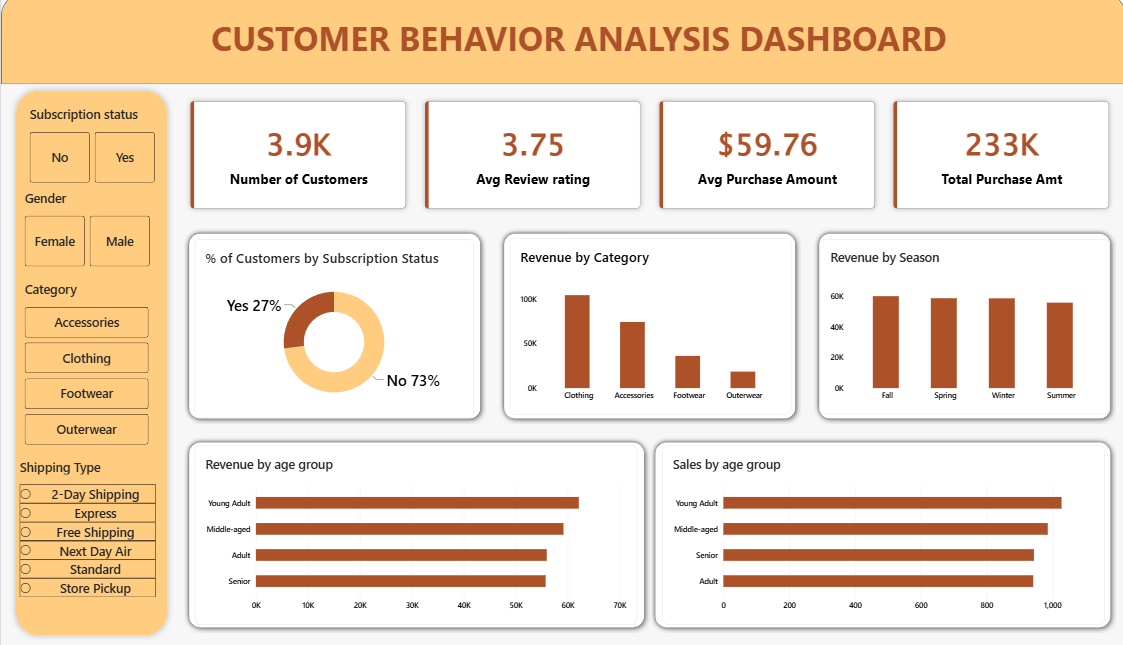

Layout of this report page (visuals, bound fields, positions):
{"tool":"powerbi","page":{"name":"Page 1","canvas":[1800,1050],"ordinal":0},"visuals":[{"type":"shape","box":[292,710,746,314],"z":0},{"type":"shape","box":[796,376,484,314],"z":1000},{"type":"cardVisual","fields":{"Data":["customer_table.Number of Customers","customer_table.Avg Review rating","customer_table.Avg Purchase Amount","customer_table.Total Purchase Amt"]},"box":[292,162,1492,194],"z":2000},{"type":"shape","box":[0,0,1800,146],"z":3000},{"type":"textbox","box":[0,16,1850,112],"z":4000},{"type":"shape","box":[292,376,484,314],"z":5000},{"type":"donutChart","title":"% of Customers by Subscription Status","fields":{"Category":["customer_table.subscription_status"],"Y":["CountNonNull(customer_table.customer_id)"]},"box":[310,394,446,286],"z":6000},{"type":"clusteredColumnChart","title":"Revenue by Category","fields":{"Y":["Sum(customer_table.purchase_amt)"],"Category":["customer_table.category"]},"box":[814,392,450,282],"z":7000},{"type":"shape","box":[14,146,262,892],"z":8000},{"type":"advancedSlicerVisual","title":"Subscription status","fields":{"Values":["customer_table.subscription_status"]},"box":[46,180,200,124],"z":9000},{"type":"advancedSlicerVisual","title":"Gender","fields":{"Values":["customer_table.gender"]},"box":[38,314,200,124],"z":10000},{"type":"advancedSlicerVisual","title":"Category","fields":{"Values":["customer_table.category"]},"box":[38,460,198,264],"z":11000},{"type":"listSlicer","title":"Shipping Type","fields":{"Values":["customer_table.shipping_type"]},"box":[30,744,218,256],"z":12000},{"type":"clusteredBarChart","title":"Revenue by age group","fields":{"Y":["Sum(customer_table.purchase_amt)"],"Category":["customer_table.age_group"]},"box":[310,724,708,286],"z":13000},{"type":"shape","box":[1300,376,484,314],"z":14000},{"type":"columnChart","title":"Revenue by Season","fields":{"Category":["customer_table.season"],"Y":["Sum(customer_table.purchase_amt)"]},"box":[1310,394,464,280],"z":15000},{"type":"shape","box":[1038,710,746,314],"z":16000},{"type":"clusteredBarChart","title":"Sales by age group","fields":{"Category":["customer_table.age_group"],"Y":["CountNonNull(customer_table.customer_id)"]},"box":[1058,724,708,286],"z":17000}]}

Visuals, with their boxes in screenshot pixels (x1, y1, x2, y2), scaled from the page's 1800x1050 canvas onto the 1123x645 screenshot:
shape: 182:436:648:629
shape: 497:231:799:424
cardVisual - customer_table.Number of Customers x customer_table.Avg Review rating: 182:100:1113:219
shape: 0:0:1122:90
textbox: 0:10:1122:79
shape: 182:231:484:424
"% of Customers by Subscription Status" donutChart: 193:242:472:418
"Revenue by Category" clusteredColumnChart: 508:241:789:414
shape: 9:90:172:638
"Subscription status" advancedSlicerVisual: 29:111:153:187
"Gender" advancedSlicerVisual: 24:193:148:269
"Category" advancedSlicerVisual: 24:283:147:445
"Shipping Type" listSlicer: 19:457:155:614
"Revenue by age group" clusteredBarChart: 193:445:635:620
shape: 811:231:1113:424
"Revenue by Season" columnChart: 817:242:1107:414
shape: 648:436:1113:629
"Sales by age group" clusteredBarChart: 660:445:1102:620
